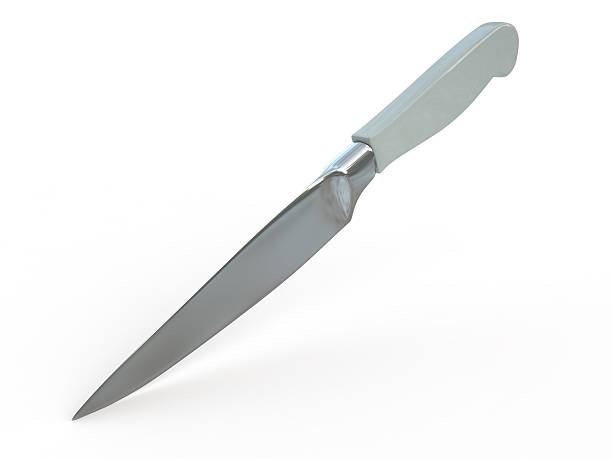knife: (68, 21, 520, 424)
